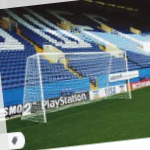goals: (16, 49, 134, 124)
